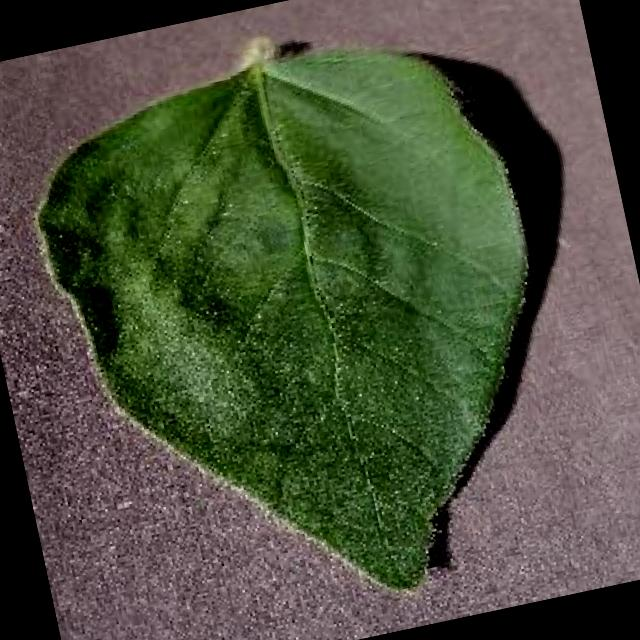healthy: (41, 53, 524, 590)
